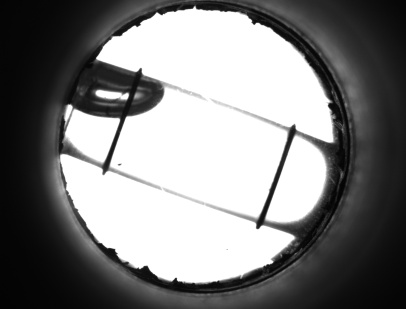line: (258, 148, 294, 210), (101, 122, 126, 157)
